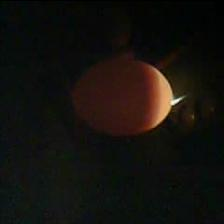fertile: (67, 54, 174, 138)
